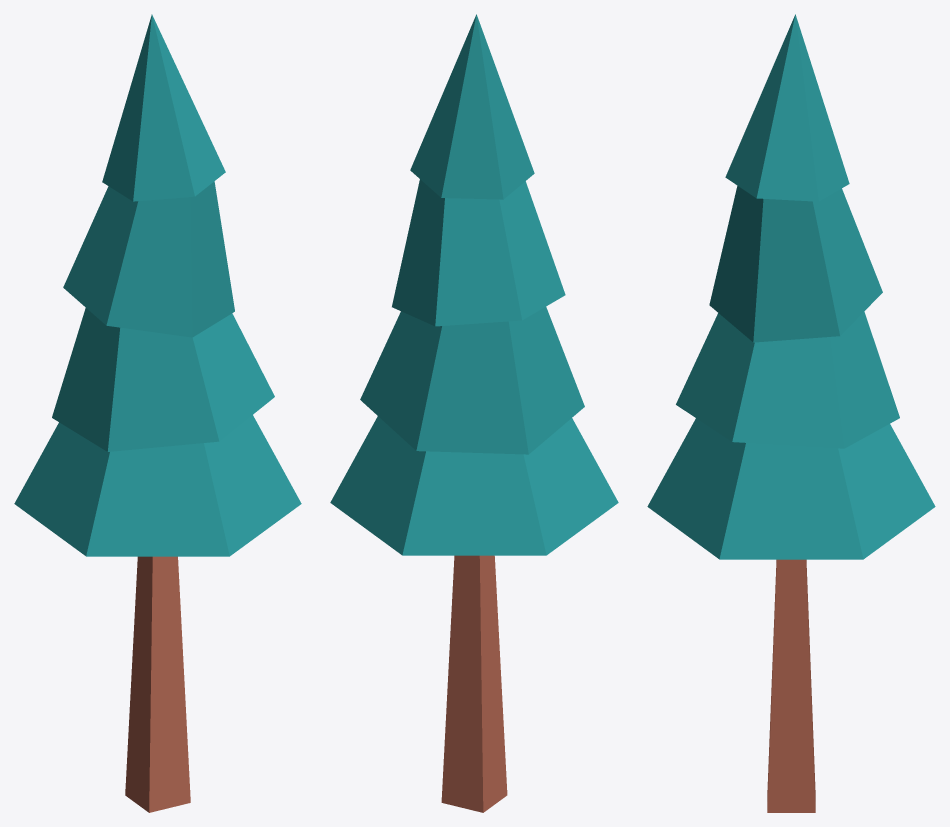
The model's file is tree-pine-tall-c.glb.
3 renders of one model, left to right at view 1: azimuth 30°, elevation 25°; view 2: azimuth 150°, elevation 25°; view 3: azimuth 270°, elevation 25°, orthographic.
Visible parts, largest first — view 1: tree_pineTallC; view 2: tree_pineTallC; view 3: tree_pineTallC.
Boxes of the visible parts, <box> form: tree_pineTallC: <box>14,14,301,812</box>; tree_pineTallC: <box>330,14,618,812</box>; tree_pineTallC: <box>647,14,935,812</box>.
Bounding box in the file's own units: 0.4804 × 1.67 × 0.5547.
